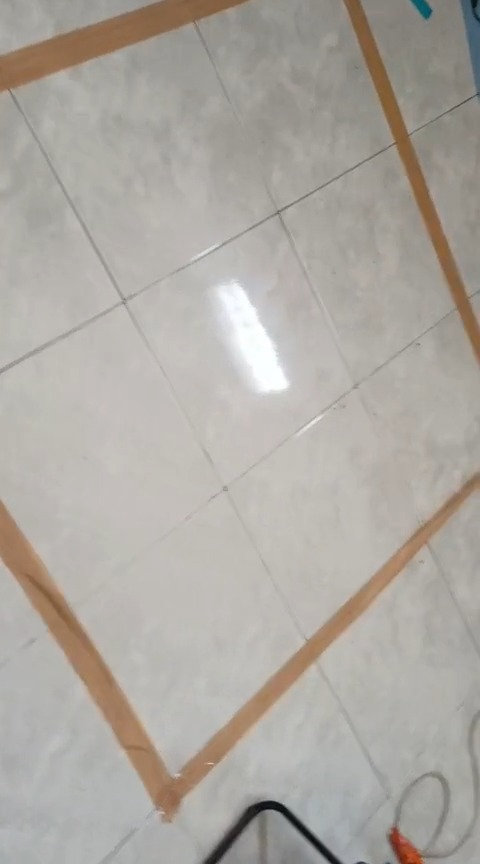floor marking: (20, 330, 417, 559), (0, 502, 206, 820), (347, 0, 477, 350), (0, 0, 247, 92), (332, 486, 465, 637), (205, 628, 327, 757)
